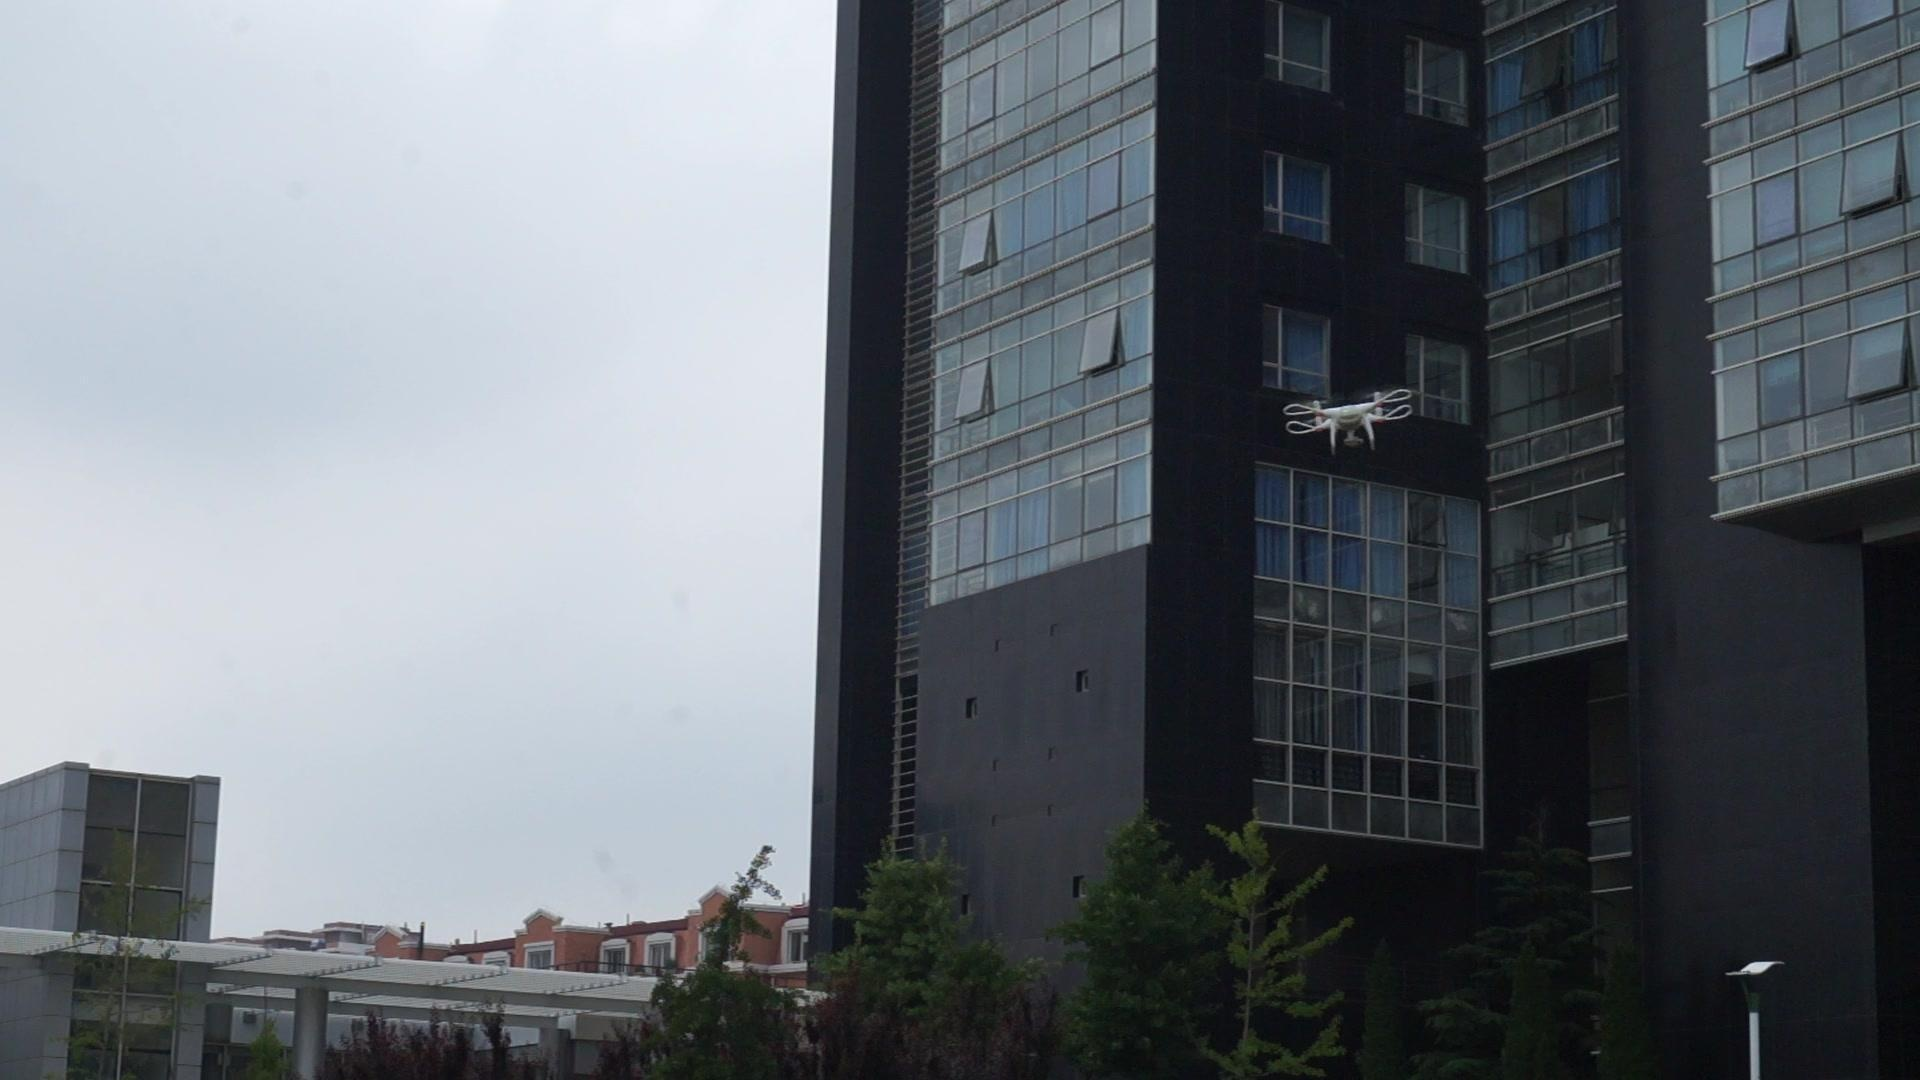UAV: (1283, 388, 1415, 458)
